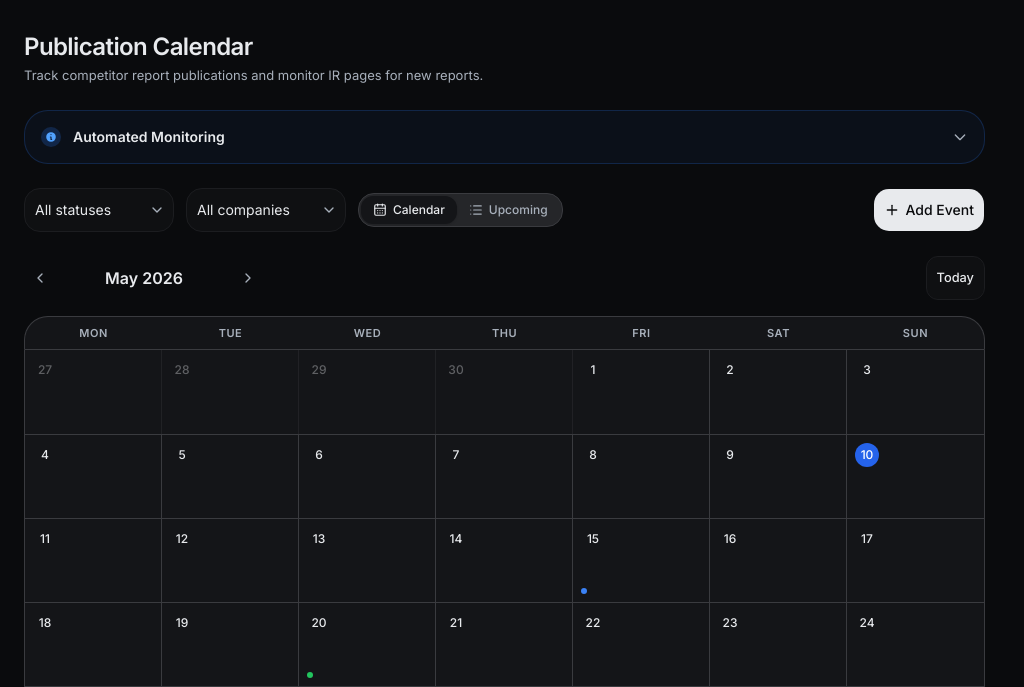
Test: CalendarPage › navigates months with arrow buttons
Click the button named "Previous month" at (40, 278), box [24,262,56,294]
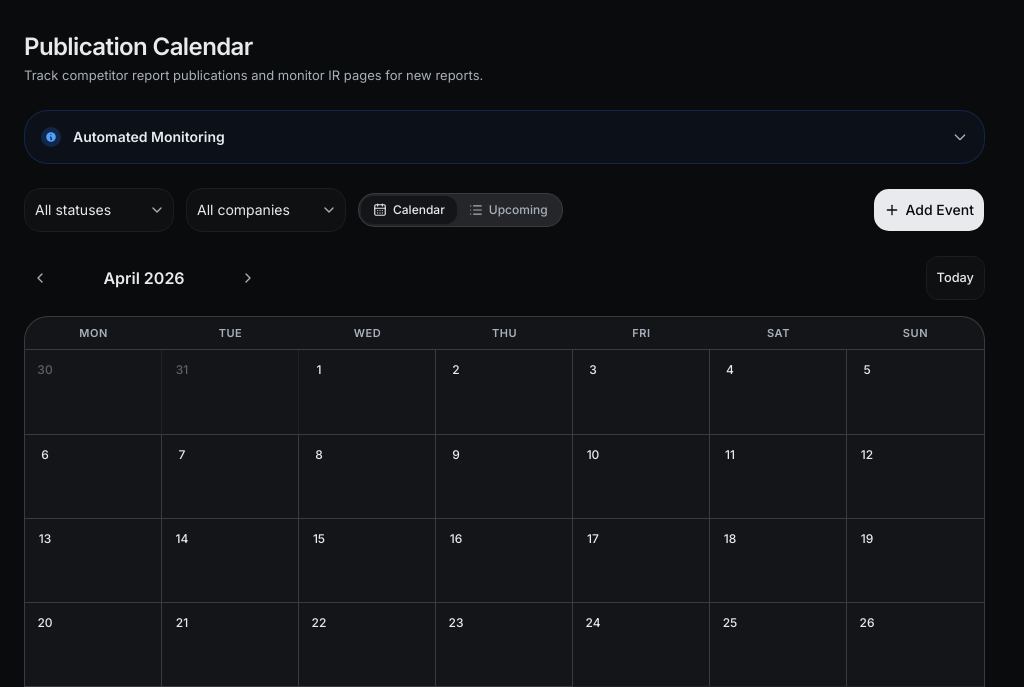
Expected: the heading "April 2026" is shown, [103,268,185,288]
Click the button named "Next month" at (248, 278), box [232,262,264,294]
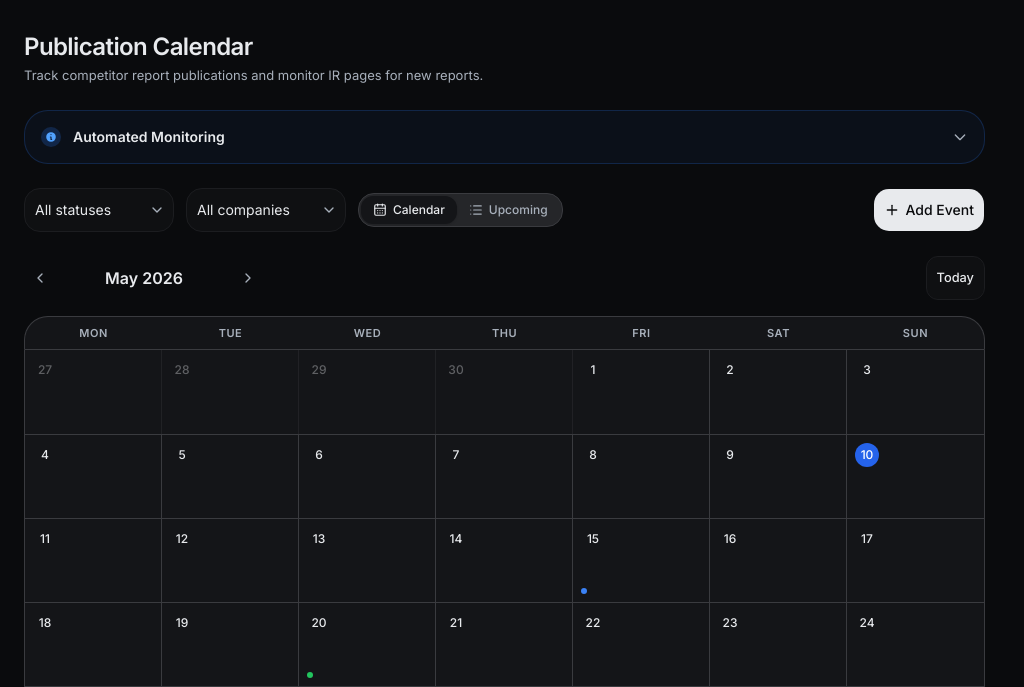
Click the button named "Next month" at (248, 278), box [232,262,264,294]
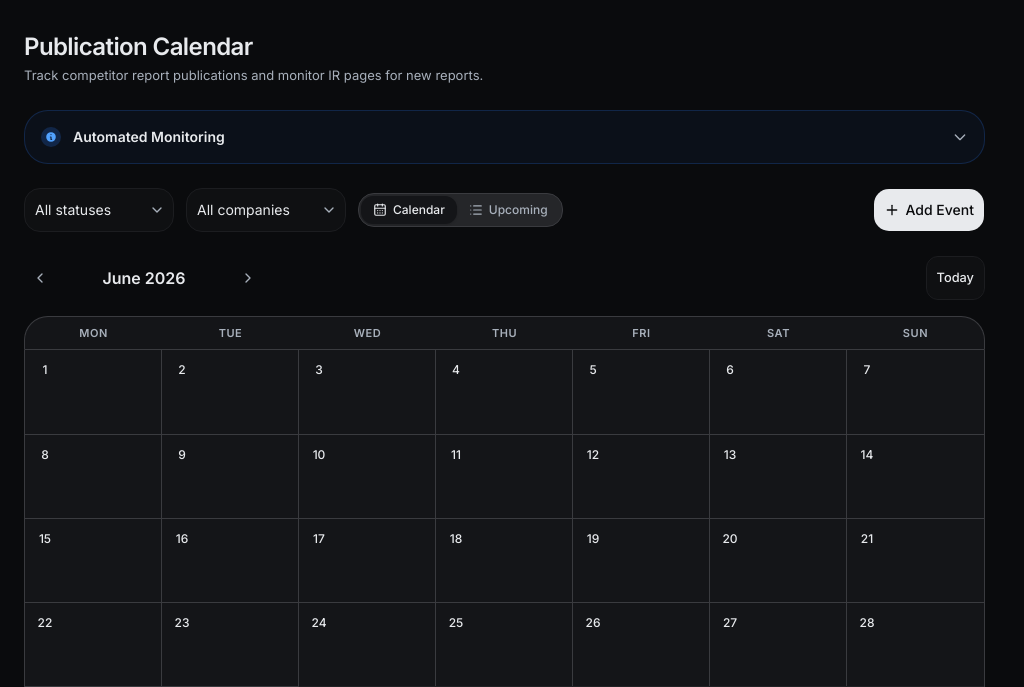
Expected: the heading "June 2026" is shown, [102,268,186,288]
